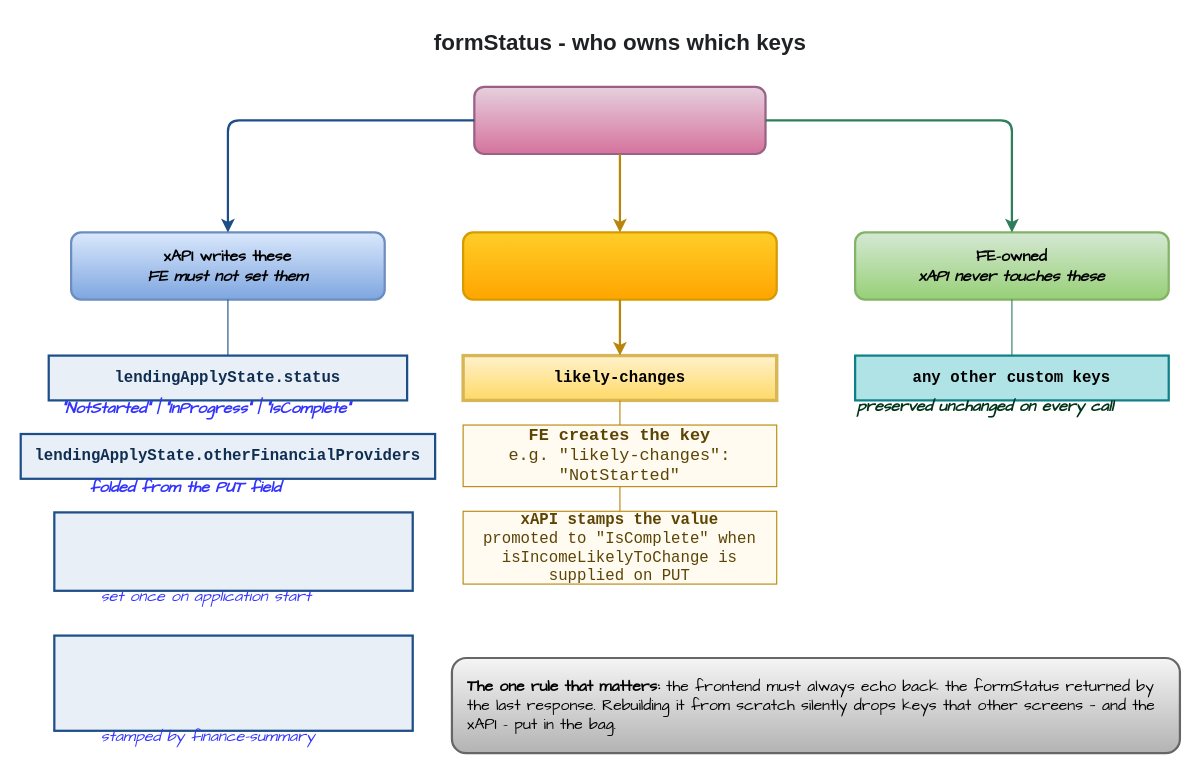
Image size: 1200x773. Some labels were removed from this diagram. Here are the shapes that lost their labels. From the top down, the centre of each, then its label:
point 619,120: formStatus JSON string - always echo back
point 619,265: Shared FE creates, xAPI promotes
point 233,551: eligibility.feature eligibility.isEligible eligibility.reason
point 233,682: your-income fixed-commitments essential-living-costs recurring-expenses
